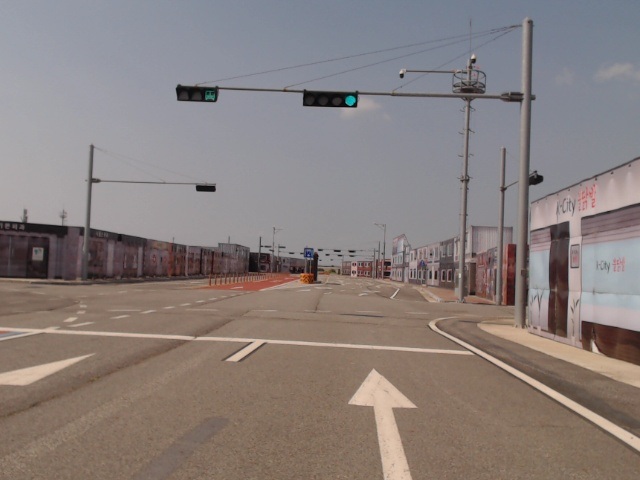straight_green_4: (302, 91, 358, 107)
